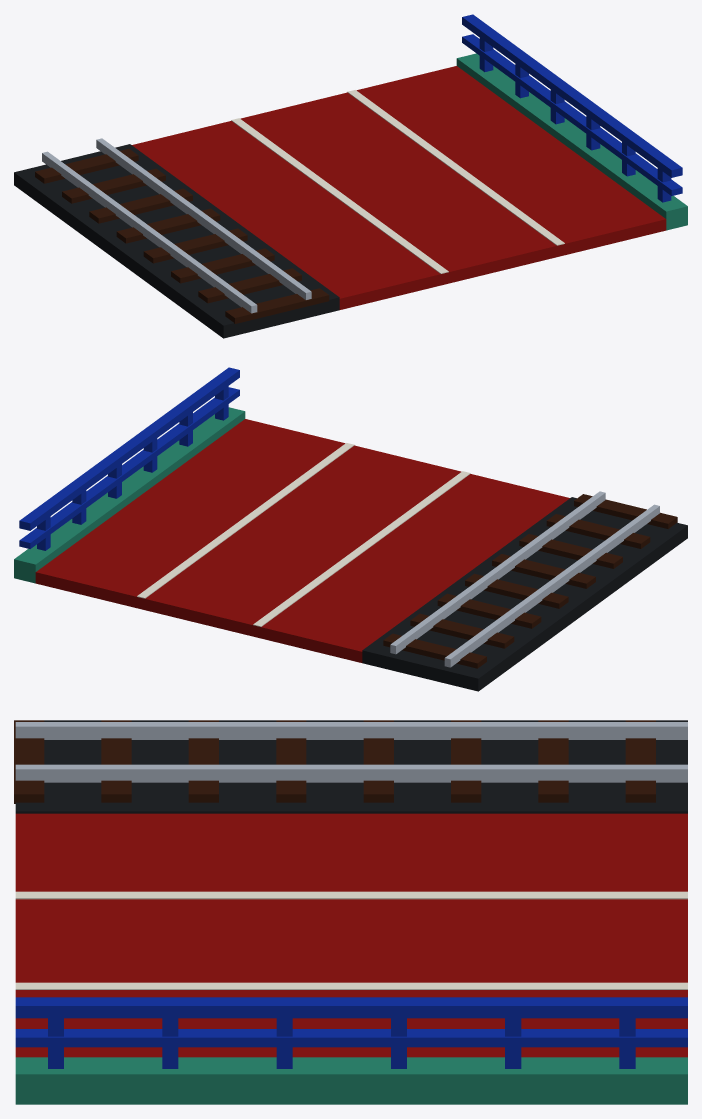
Rendered from track.obj.
3 renders of one model, top to bottom at view 1: azimuth 30°, elevation 25°; view 2: azimuth 150°, elevation 25°; view 3: azimuth 270°, elevation 25°, orthographic. The views are drawn at different scales.
Visible parts, largest first — view 1: plaza_floor, ballast, curb, fence_rail_top, fence_rail_mid, rail_a, rail_b, lane_line_l, lane_line_r, sleeper_7, sleeper_3, sleeper_4 (+5 smaller); view 2: plaza_floor, ballast, curb, fence_rail_top, fence_rail_mid, rail_b, rail_a, lane_line_l, lane_line_r, sleeper_0, sleeper_2, sleeper_1 (+5 smaller); view 3: plaza_floor, curb, ballast, fence_rail_top, rail_b, fence_rail_mid, rail_a, lane_line_l, lane_line_r, sleeper_7, sleeper_1, sleeper_6 (+11 smaller).
Boxes of the visible parts, x1,y1,x2,y2 form: plaza_floor: [132, 66, 666, 309]; ballast: [14, 144, 339, 338]; curb: [456, 53, 687, 230]; fence_rail_top: [462, 14, 682, 177]; fence_rail_mid: [462, 34, 682, 195]; rail_a: [42, 151, 257, 313]; rail_b: [96, 138, 311, 299]; lane_line_l: [231, 118, 448, 273]; lane_line_r: [347, 90, 564, 245]; sleeper_7: [225, 288, 329, 323]; sleeper_3: [116, 208, 220, 243]; sleeper_4: [143, 228, 247, 263]; plaza_floor: [35, 419, 569, 662]; ballast: [362, 497, 687, 691]; curb: [14, 407, 245, 583]; fence_rail_top: [19, 367, 239, 530]; fence_rail_mid: [19, 387, 239, 548]; rail_b: [390, 491, 605, 654]; rail_a: [444, 504, 659, 667]; lane_line_l: [253, 471, 470, 626]; lane_line_r: [137, 443, 354, 598]; sleeper_0: [383, 633, 486, 668]; sleeper_2: [437, 593, 541, 628]; sleeper_1: [410, 613, 514, 648]; plaza_floor: [15, 813, 687, 1057]; curb: [15, 1057, 687, 1104]; ballast: [15, 720, 687, 813]; fence_rail_top: [15, 997, 687, 1018]; rail_b: [15, 764, 687, 782]; fence_rail_mid: [15, 1029, 687, 1047]; rail_a: [15, 722, 687, 739]; lane_line_l: [15, 891, 687, 899]; lane_line_r: [15, 982, 687, 989]; sleeper_7: [14, 720, 44, 803]; sleeper_1: [538, 720, 568, 802]; sleeper_6: [101, 720, 131, 802].
Size of the model in its own units: 12.8 by 1.55 by 10.03.
